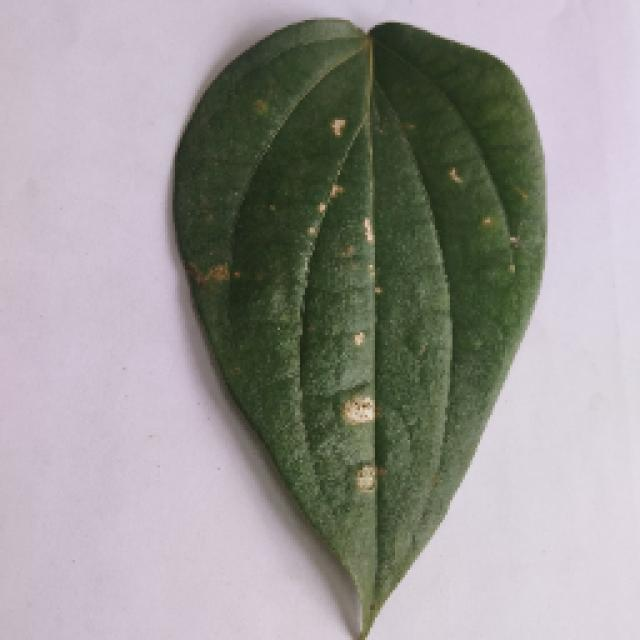pollu-disease: (170, 15, 542, 633)
